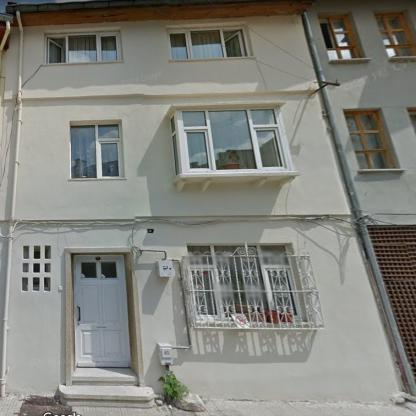door: (74, 255, 130, 367)
window: (169, 106, 294, 177), (187, 245, 299, 321), (345, 111, 397, 169), (70, 123, 122, 179), (167, 26, 251, 60), (45, 31, 123, 63), (19, 241, 55, 295), (319, 14, 361, 60), (374, 13, 416, 57), (409, 112, 415, 126)
